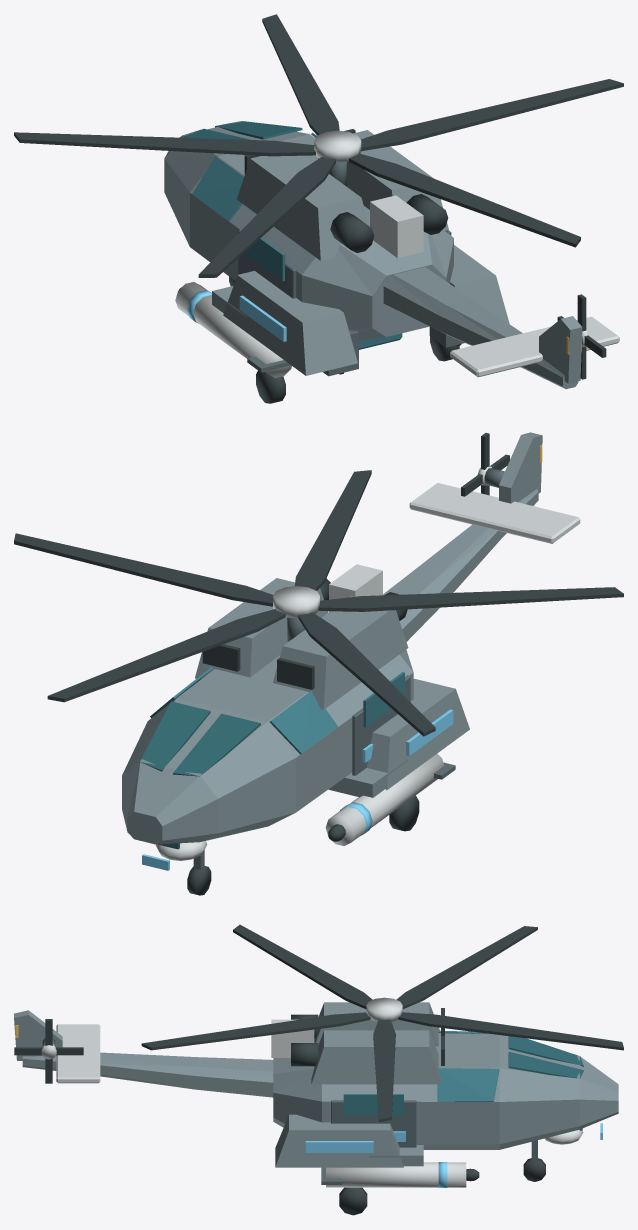
File: HEL_EscortAsw_T3.fbx
3 views of the same model, one above another, from view 1: azimuth 30°, elevation 25°; view 2: azimuth 150°, elevation 25°; view 3: azimuth 270°, elevation 25° (orthographic). The views are drawn at different scales.
Parts seen in each view (by area): view 1: MachinedHelicopterFuselage, NavalSponson, TwinEngineCowling, TaperedTailBoom, MainRotorBlade_03, MainRotorBlade_01, MainRotorBlade_05, MainRotorBlade_04, HorizontalTailplane, MainRotorBlade_02, AirDroppedTorpedo, DorsalDatalink (+12 smaller); view 2: MachinedHelicopterFuselage, TwinEngineCowling, HorizontalTailplane, NavalSponson, TaperedTailBoom, MainRotorBlade_04, MainRotorBlade_01, MainRotorBlade_02, MainRotorBlade_03, TwinEngineCowling.001, MainRotorBlade_05, AirDroppedTorpedo (+14 smaller); view 3: MachinedHelicopterFuselage, TaperedTailBoom, TwinEngineCowling.001, NavalSponson.001, AirDroppedTorpedo.001, MainRotorBlade_05, MainRotorBlade_02, HorizontalTailplane, MainRotorBlade_03, MainRotorBlade_04, PilotSideWindow.001, MainRotorBlade_01 (+13 smaller).
Boxes of the visible parts, x1=… form: MachinedHelicopterFuselage: x1=164, y1=121, x2=453, y2=340; NavalSponson: x1=223, y1=271, x2=357, y2=375; TwinEngineCowling: x1=236, y1=155, x2=368, y2=260; TaperedTailBoom: x1=383, y1=267, x2=578, y2=389; MainRotorBlade_03: x1=14, y1=132, x2=315, y2=156; MainRotorBlade_01: x1=361, y1=79, x2=623, y2=151; MainRotorBlade_05: x1=349, y1=153, x2=580, y2=247; MainRotorBlade_04: x1=198, y1=156, x2=335, y2=277; HorizontalTailplane: x1=450, y1=316, x2=619, y2=377; MainRotorBlade_02: x1=262, y1=14, x2=339, y2=135; AirDroppedTorpedo: x1=175, y1=282, x2=291, y2=377; DorsalDatalink: x1=370, y1=195, x2=423, y2=258; MachinedHelicopterFuselage: x1=122, y1=649, x2=413, y2=844; TwinEngineCowling: x1=273, y1=596, x2=408, y2=709; HorizontalTailplane: x1=409, y1=483, x2=580, y2=543; NavalSponson: x1=366, y1=678, x2=469, y2=790; TaperedTailBoom: x1=383, y1=489, x2=538, y2=641; MainRotorBlade_04: x1=318, y1=587, x2=623, y2=611; MainRotorBlade_01: x1=14, y1=533, x2=273, y2=606; MainRotorBlade_02: x1=47, y1=609, x2=285, y2=702; MainRotorBlade_03: x1=298, y1=612, x2=435, y2=736; TwinEngineCowling.001: x1=195, y1=578, x2=328, y2=678; MainRotorBlade_05: x1=294, y1=470, x2=371, y2=590; AirDroppedTorpedo: x1=325, y1=753, x2=444, y2=845; MachinedHelicopterFuselage: x1=273, y1=1033, x2=618, y2=1149; TaperedTailBoom: x1=22, y1=1052, x2=273, y2=1097; TwinEngineCowling.001: x1=311, y1=1030, x2=441, y2=1084; NavalSponson.001: x1=275, y1=1114, x2=403, y2=1167; AirDroppedTorpedo.001: x1=326, y1=1162, x2=466, y2=1187; MainRotorBlade_05: x1=141, y1=1012, x2=370, y2=1050; MainRotorBlade_02: x1=398, y1=1012, x2=623, y2=1050; HorizontalTailplane: x1=56, y1=1024, x2=100, y2=1083; MainRotorBlade_03: x1=396, y1=926, x2=537, y2=1008; MainRotorBlade_04: x1=233, y1=924, x2=372, y2=1008; PilotSideWindow.001: x1=437, y1=1068, x2=499, y2=1101; MainRotorBlade_01: x1=373, y1=1019, x2=395, y2=1122.
Bounding box in the file's own units: 237 × 98.95 × 313.
